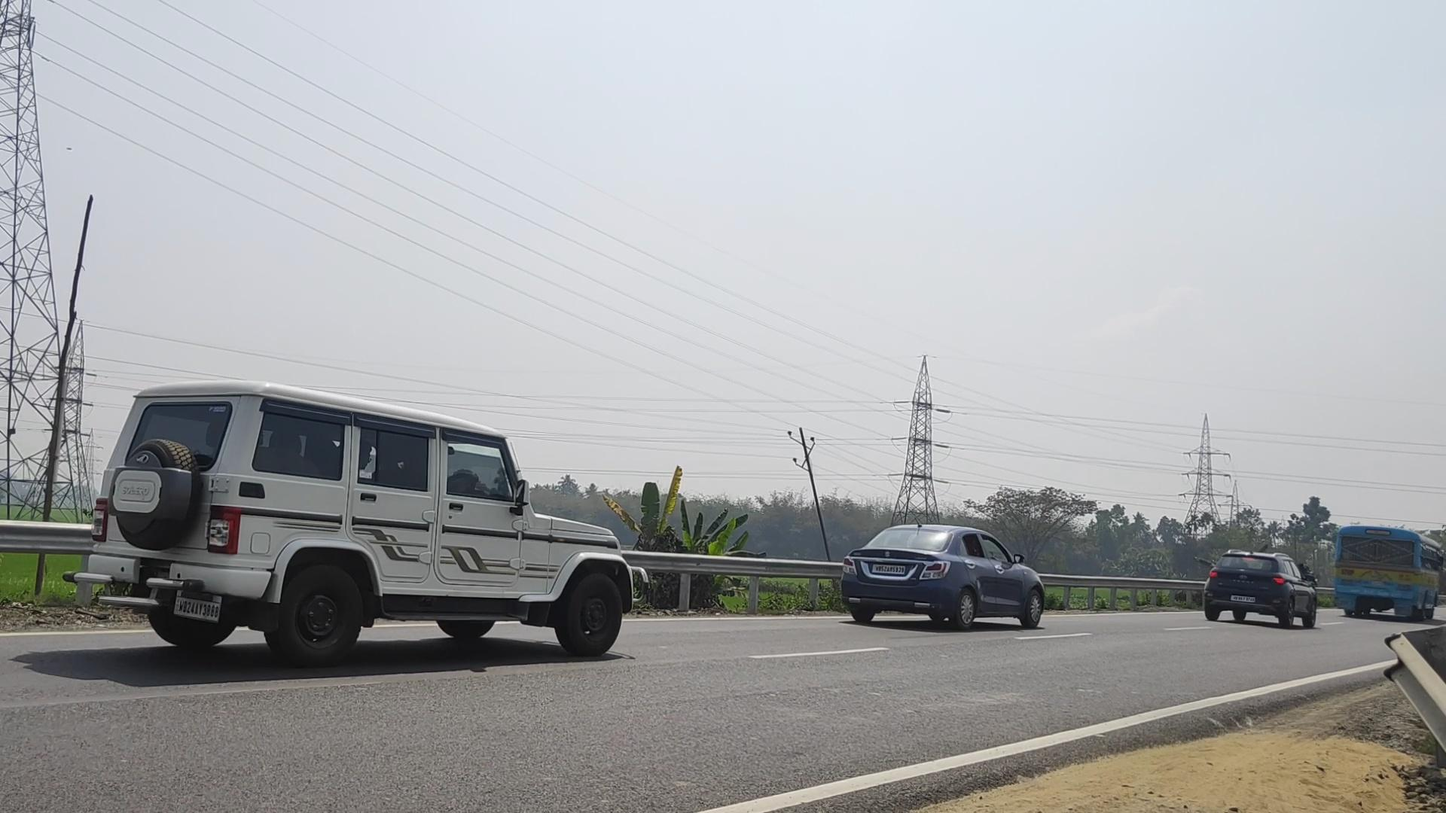Bus: (1333, 525, 1443, 619)
car: (62, 378, 650, 672), (841, 524, 1045, 630), (1203, 549, 1316, 629)
